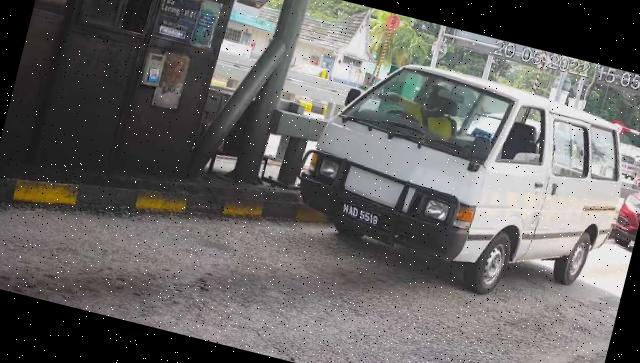License_Plate: (338, 200, 385, 232)
van: (287, 44, 640, 321)
